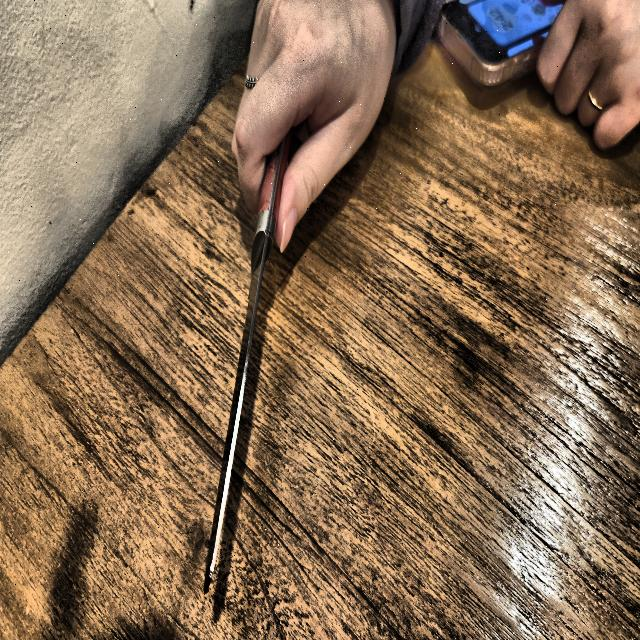knife: (203, 123, 295, 600)
